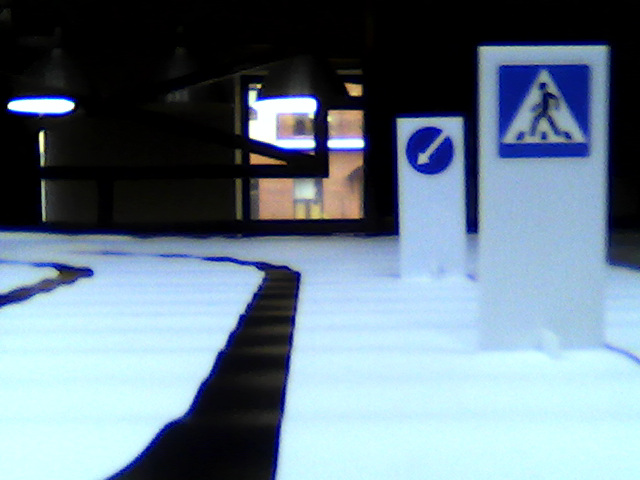pesh: (492, 62, 590, 157)
prep: (404, 127, 455, 177)
